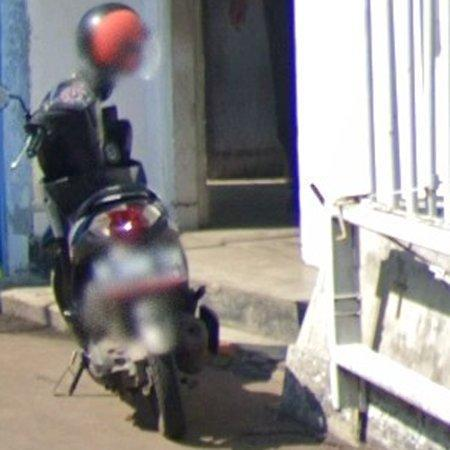motorcycles: (21, 3, 218, 440)
